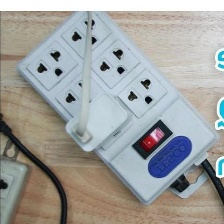three_eye_plug: (13, 0, 222, 209), (0, 148, 34, 224)
